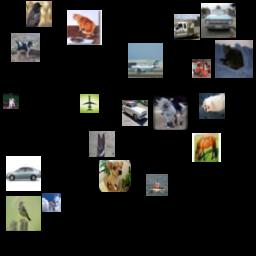airplane: (128, 43, 163, 78), (80, 94, 99, 113)
automobile: (201, 3, 236, 38), (6, 156, 41, 191), (122, 100, 148, 126)
bird: (6, 196, 41, 231), (26, 1, 52, 27), (42, 193, 61, 212)
cat: (215, 40, 253, 78), (67, 10, 102, 45), (3, 93, 19, 109)
dog: (99, 160, 131, 192), (11, 33, 40, 62), (89, 131, 115, 157), (199, 93, 225, 119)
ship: (146, 174, 168, 196)
truck: (174, 14, 200, 40), (192, 59, 211, 78)
